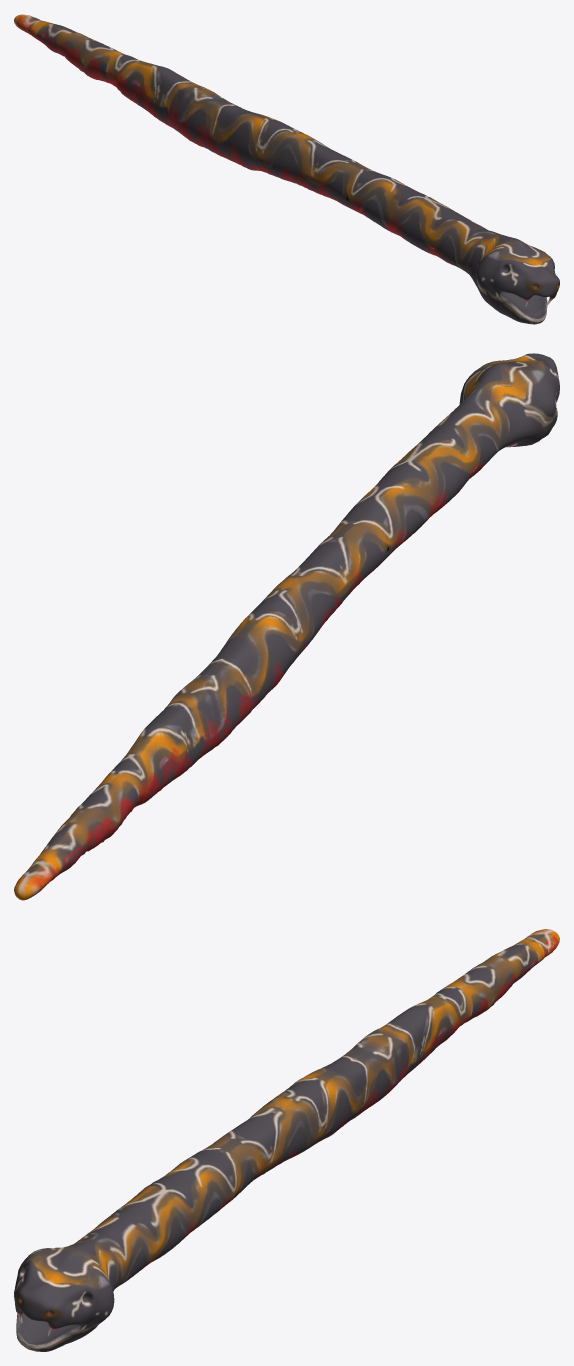
File: snakey.obj
3 views of the same model, one above another, from view 1: azimuth 30°, elevation 25°; view 2: azimuth 150°, elevation 25°; view 3: azimuth 330°, elevation 25° (orthographic). The views are drawn at different scales.
Parts seen in each view (by area): view 1: Object_Mesh.002; view 2: Object_Mesh.002; view 3: Object_Mesh.002.
Part boxes in pixels (box(x1,y1,x2,y2)): Object_Mesh.002: box(14, 14, 559, 324); Object_Mesh.002: box(14, 353, 559, 900); Object_Mesh.002: box(14, 929, 559, 1351).
Bounding box in the file's own units: 2.49 × 2.29 × 20.81.
